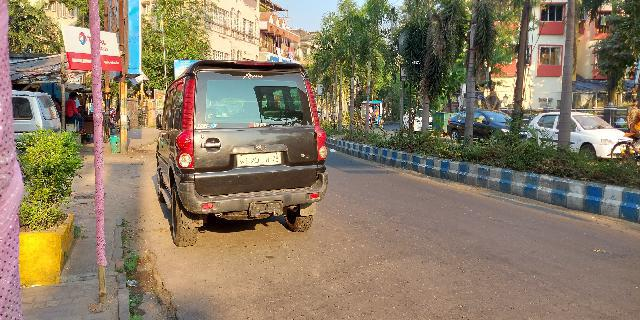Car: (153, 59, 333, 251)
